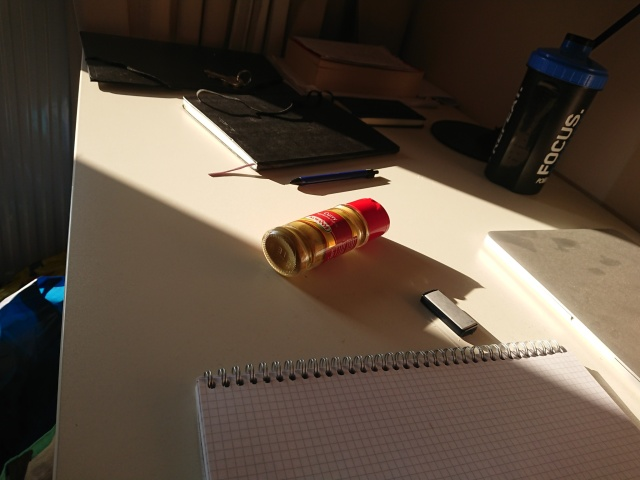Kotanyi Curry Spices Mix 70g: (259, 196, 393, 280)
